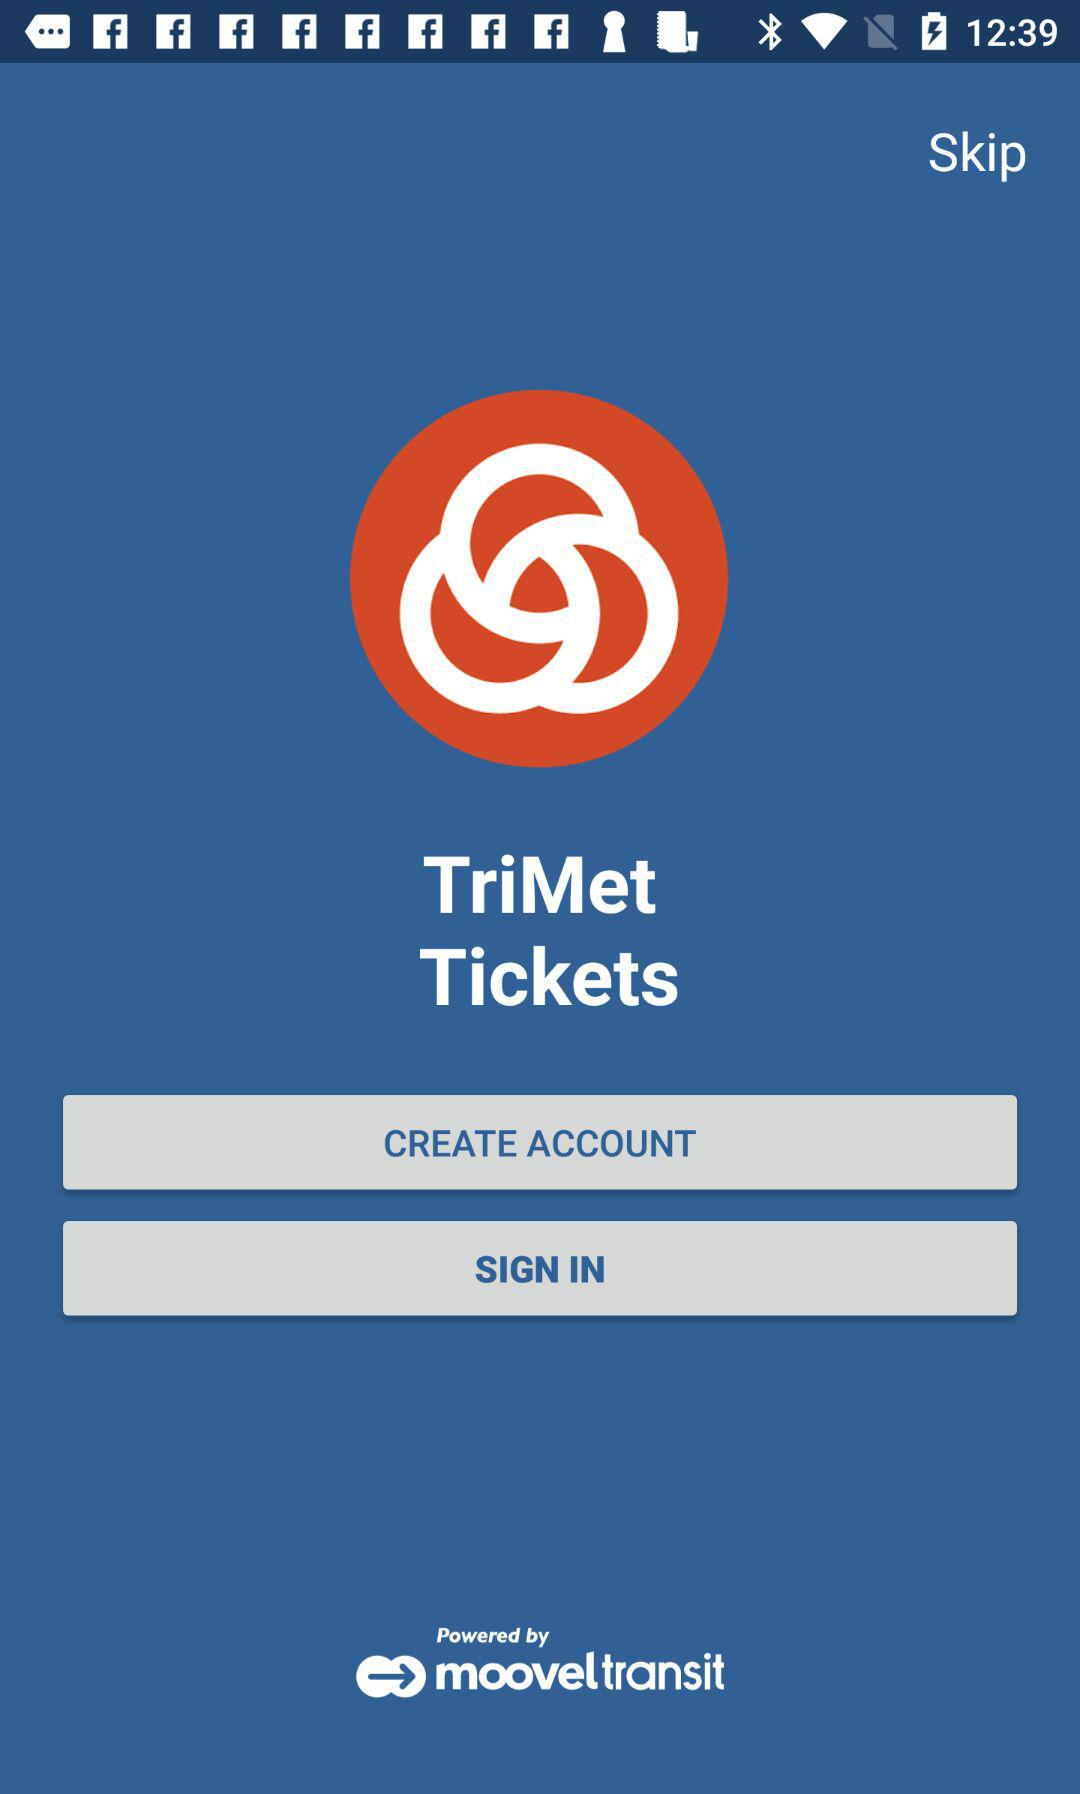Image: (348, 390, 730, 769), (355, 1625, 726, 1700)
Text: (418, 853, 680, 1008), (928, 129, 1027, 186)
TextButton: (63, 1220, 1019, 1317), (63, 1096, 1019, 1190)
UpperTaskBar: (1, 1, 1080, 64)
